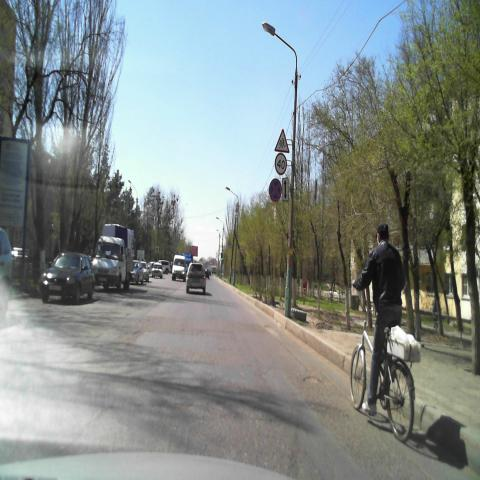8_2_4: (282, 176, 288, 202)
